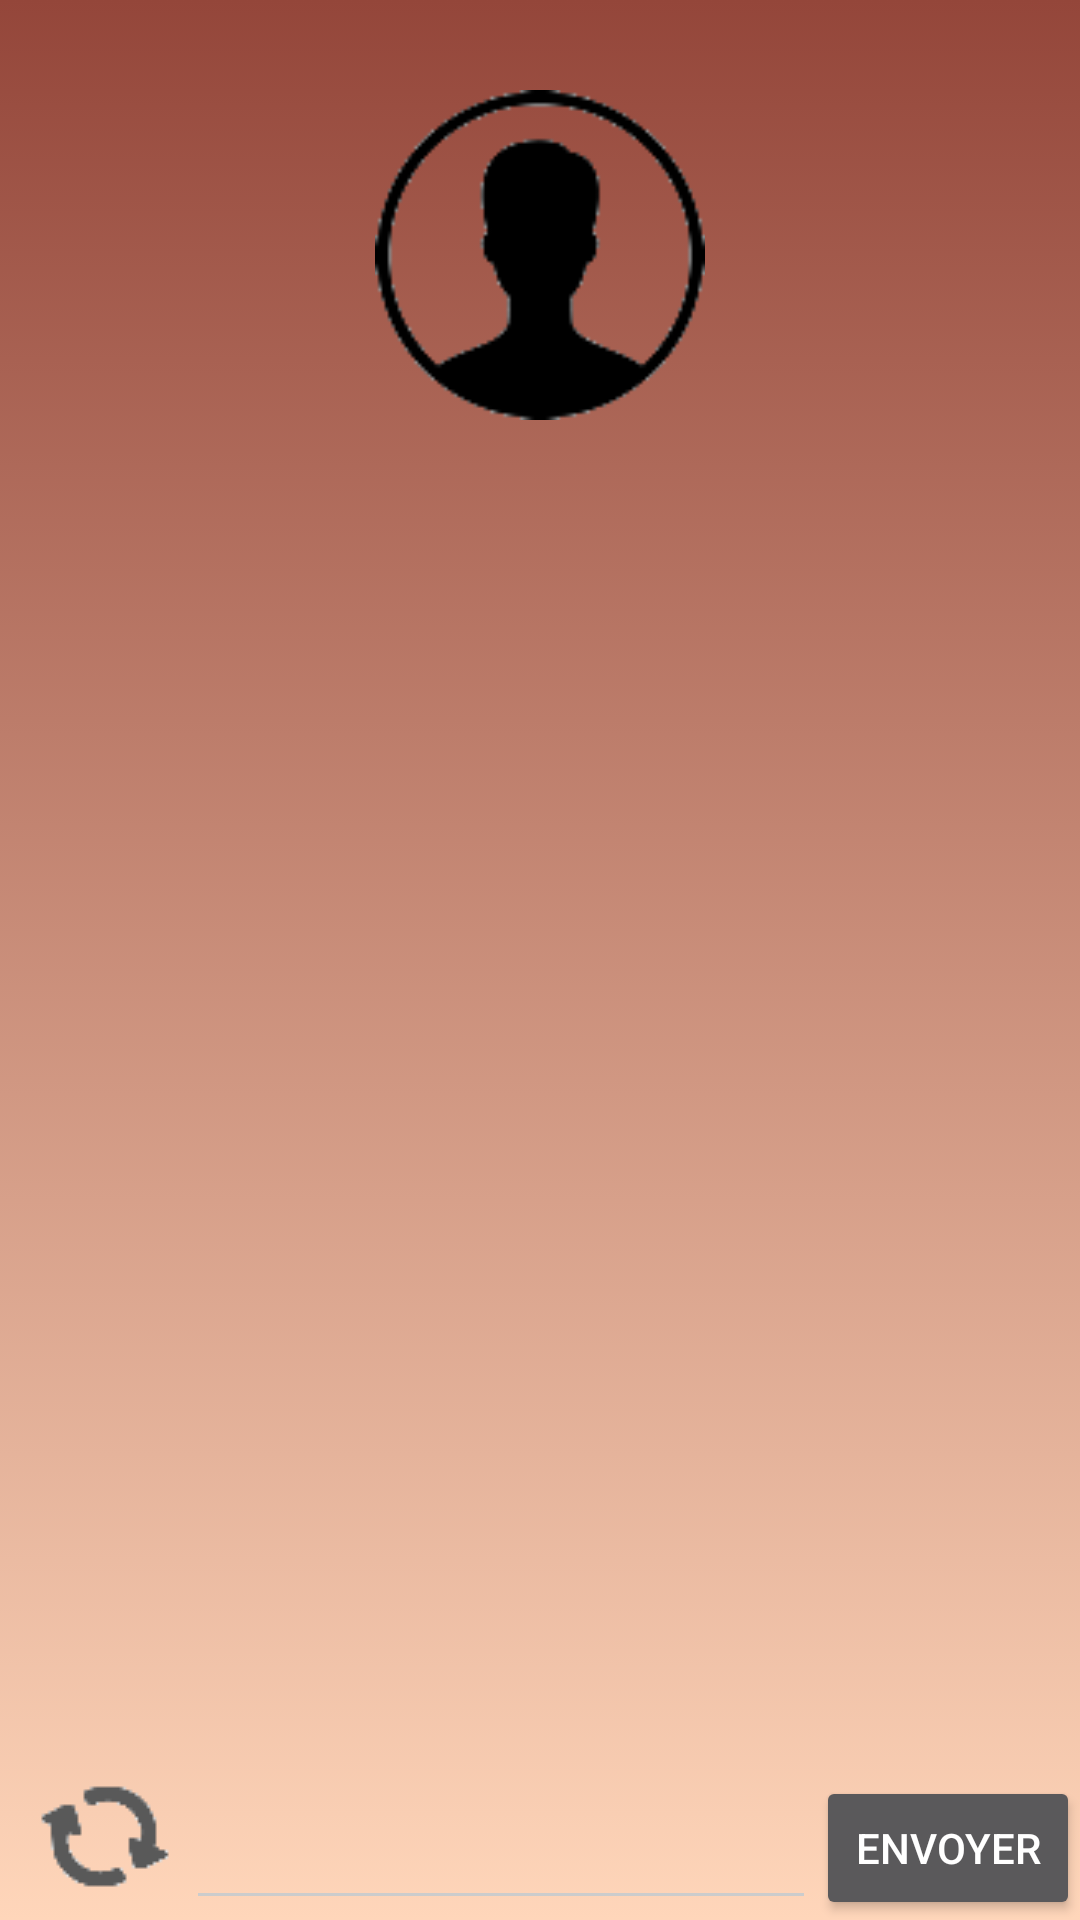

Named icons in this screenshot (1080 × 1920) and their centers, [x,y]:
refresh: [105,1836]
